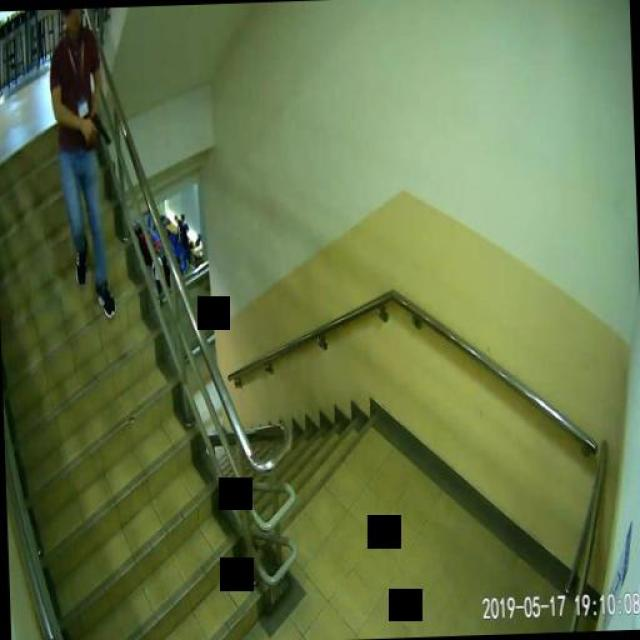gun: (84, 110, 108, 144)
